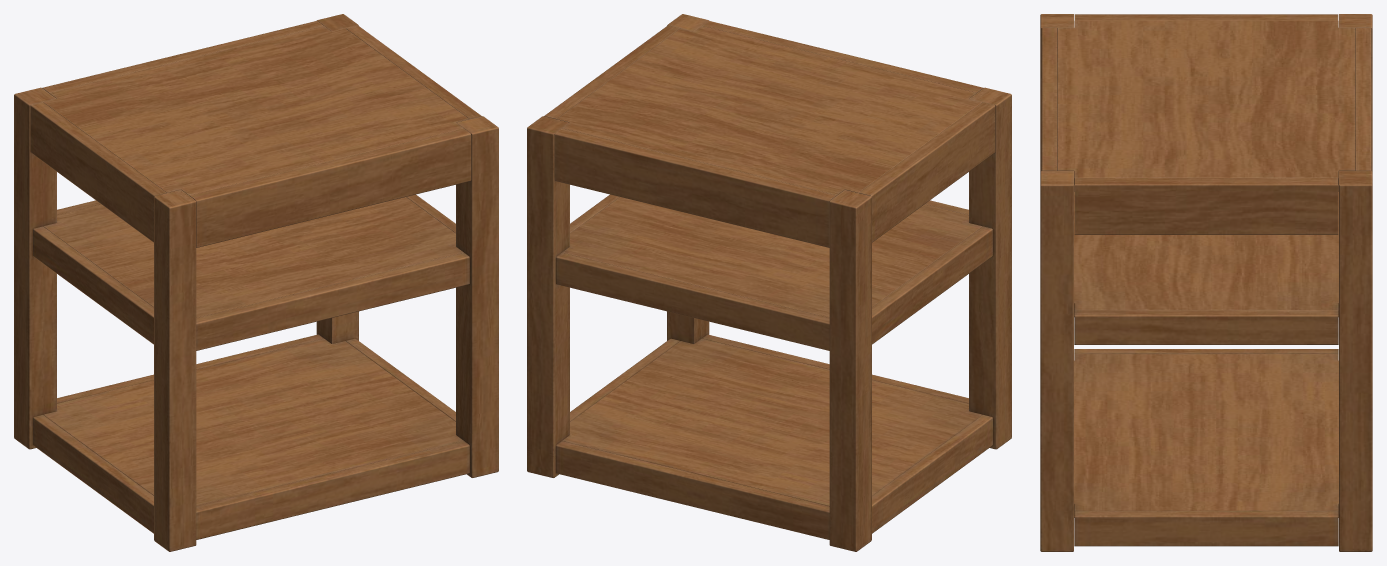
File: side_table_01.gltf
3 views of the same model, side by side, from view 1: azimuth 30°, elevation 25°; view 2: azimuth 150°, elevation 25°; view 3: azimuth 270°, elevation 25° (orthographic). The views are drawn at different scales.
Parts seen in each view (by area): view 1: side_table_01; view 2: side_table_01; view 3: side_table_01.
Part boxes in pixels (left/top/right/bottom): side_table_01: left=14, top=14, right=498, bottom=551; side_table_01: left=527, top=14, right=1011, bottom=551; side_table_01: left=1040, top=14, right=1372, bottom=551.
Size of the model in its own units: 0.55 by 0.5507 by 0.45.
1 material, 1 textured.
